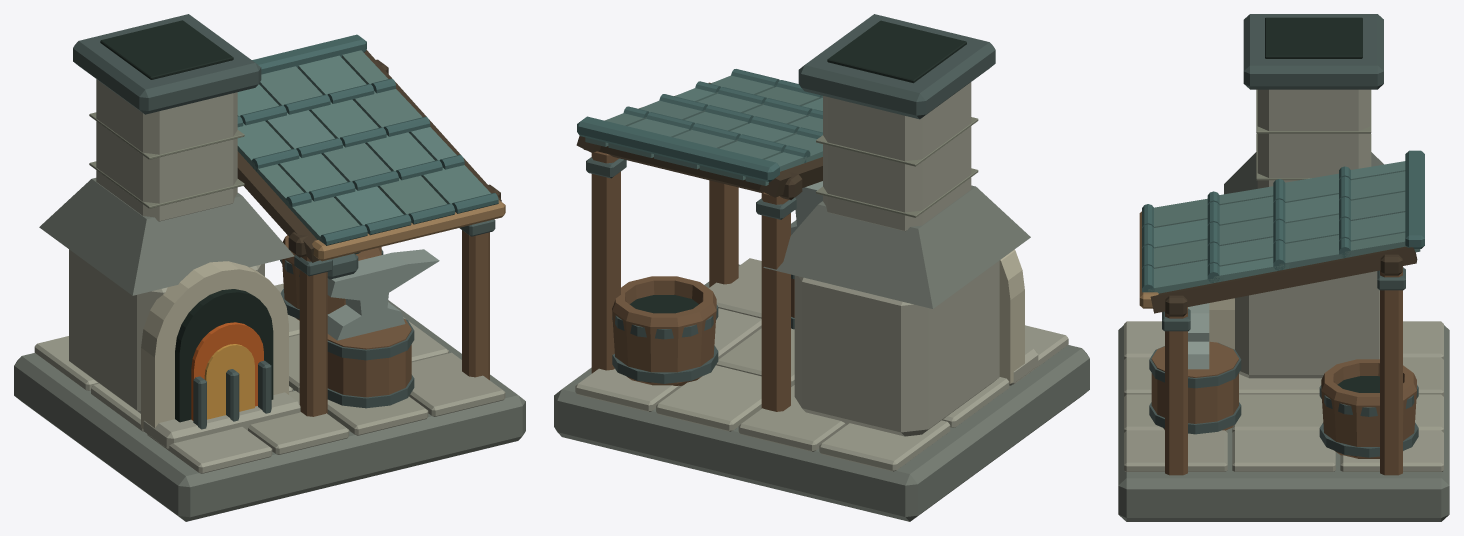
The model's file is smithy.glb.
The picture shows the model from 3 angles, left to right: view 1: azimuth 30°, elevation 25°; view 2: azimuth 150°, elevation 25°; view 3: azimuth 270°, elevation 25°; orthographic projection. The views are drawn at different scales.
Parts seen in each view (by area): view 1: Stone, Roof, Timber, Metal; view 2: Stone, Timber, Roof, Metal; view 3: Stone, Roof, Timber, Metal.
Boxes of the visible parts, x1=… form: Stone: x1=14, y1=20, x2=525, y2=521; Roof: x1=237, y1=34, x2=498, y2=245; Timber: x1=237, y1=50, x2=505, y2=416; Metal: x1=73, y1=14, x2=495, y2=429; Stone: x1=554, y1=20, x2=1089, y2=521; Timber: x1=576, y1=82, x2=822, y2=411; Roof: x1=577, y1=69, x2=822, y2=185; Metal: x1=586, y1=14, x2=995, y2=383; Stone: x1=1118, y1=17, x2=1449, y2=521; Roof: x1=1142, y1=150, x2=1424, y2=293; Timber: x1=1139, y1=211, x2=1417, y2=475; Metal: x1=1149, y1=14, x2=1418, y2=457.
Bounding box in the file's own units: 2.74 × 2.88 × 2.36.
